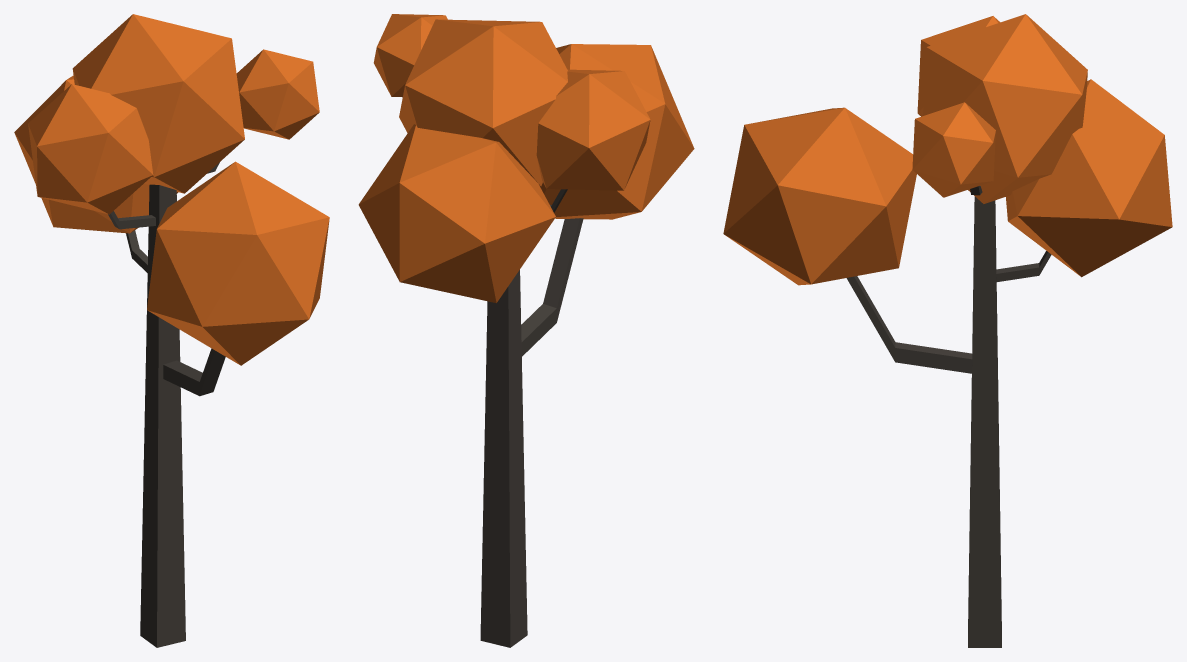
Rendered from Tree01.fbx.
The picture shows the model from 3 angles, left to right: view 1: azimuth 30°, elevation 25°; view 2: azimuth 150°, elevation 25°; view 3: azimuth 270°, elevation 25°; orthographic projection. The views are drawn at different scales.
Parts seen in each view (by area): view 1: Icosphere.001, Icosphere, Cube; view 2: Icosphere.001, Cube, Icosphere; view 3: Icosphere.001, Icosphere, Cube.
Boxes of the visible parts, box(x1,y1,x2,y2) form: Icosphere.001: box(14, 14, 319, 233); Icosphere: box(147, 161, 329, 365); Cube: box(108, 162, 225, 647); Icosphere.001: box(358, 14, 650, 303); Cube: box(480, 189, 583, 647); Icosphere: box(540, 44, 694, 219); Icosphere.001: box(912, 14, 1172, 277); Icosphere: box(723, 107, 916, 285); Cube: box(846, 186, 1051, 647).
Size of the model in its own units: 499 by 1069 by 700.
